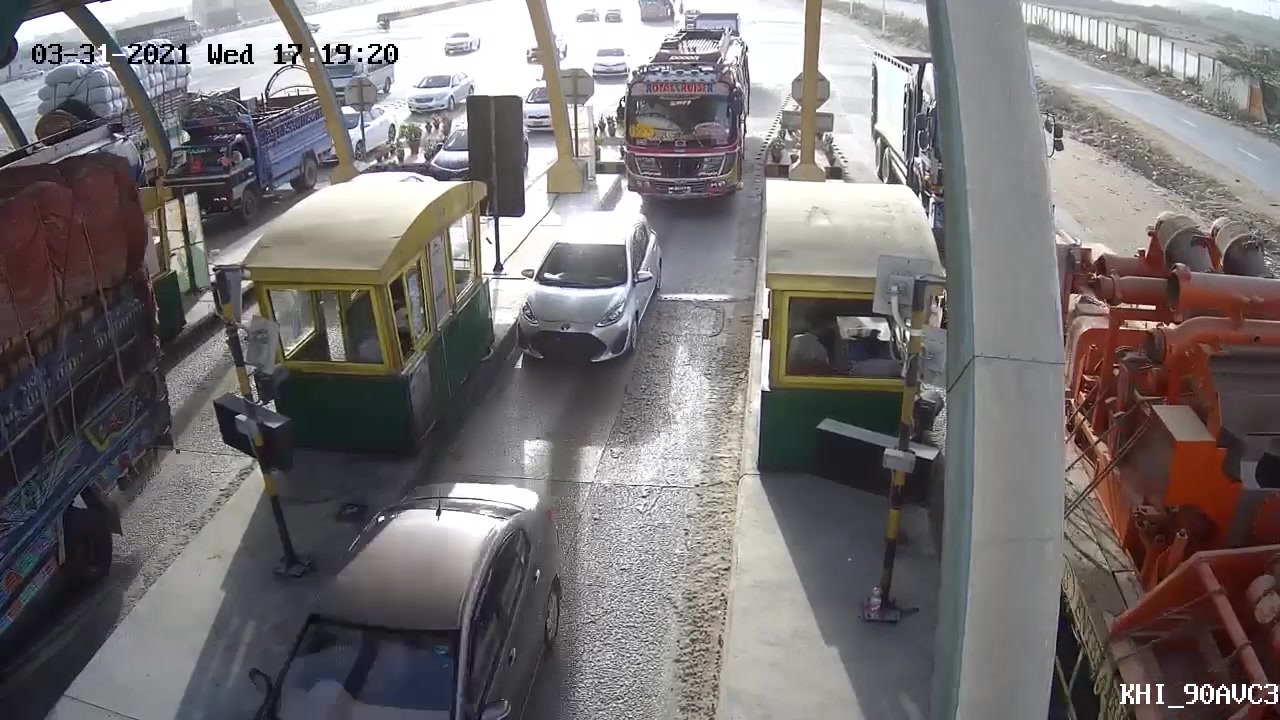F1: (511, 204, 666, 378)
